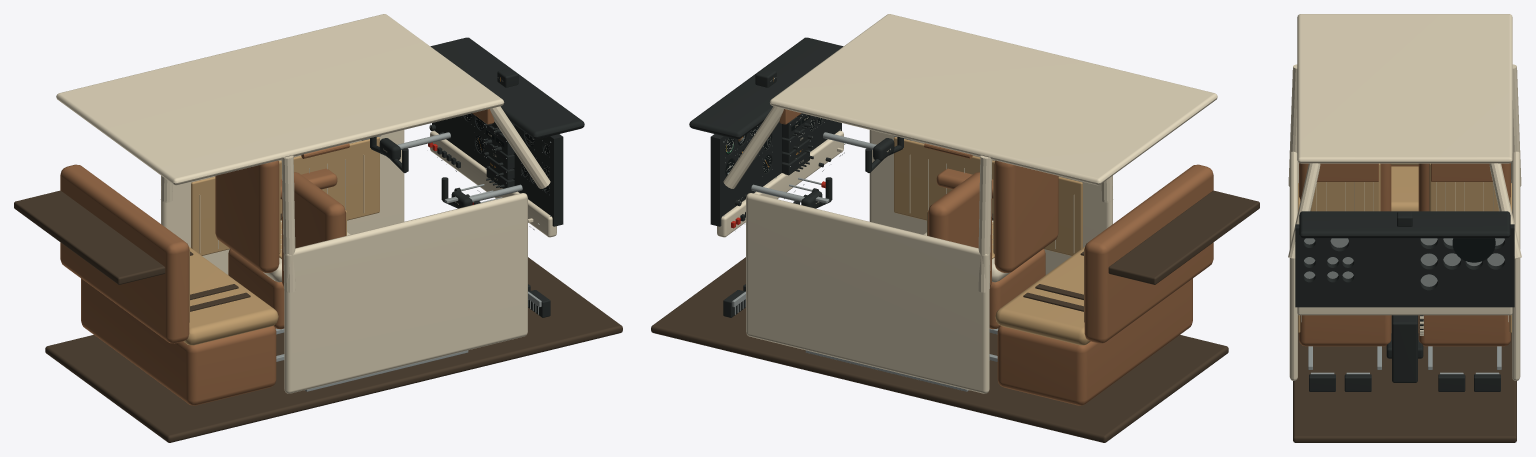
File: c172-interior.glb
3 views of the same model, side by side, from view 1: azimuth 30°, elevation 25°; view 2: azimuth 150°, elevation 25°; view 3: azimuth 270°, elevation 25° (orthographic). The views are drawn at different scales.
Parts seen in each view (by area): view 1: C172_Interior_static, C172_Headliner, C172_Door_R, C172_Rear_bench_base, C172_Door_L, C172_Seat_base_L, C172_Yoke_L_roll; view 2: C172_Interior_static, C172_Headliner, C172_Door_L, C172_Rear_bench_base, C172_Door_R, C172_Seat_base_R, C172_Yoke_R_roll; view 3: C172_Interior_static, C172_Headliner, C172_Seat_base_R, C172_Seat_base_L, C172_Door_L, C172_Door_R, C172_Sunvisor_L, C172_Sunvisor_R, C172_Pedal_L_R, C172_Pedal_R_L, C172_Pedal_L_L, C172_Pedal_R_R (+1 smaller).
Part boxes in pixels (bbox=[...]): C172_Interior_static: bbox=[14, 37, 622, 442]; C172_Headliner: bbox=[56, 14, 504, 185]; C172_Door_R: bbox=[284, 193, 527, 393]; C172_Rear_bench_base: bbox=[81, 278, 276, 405]; C172_Door_L: bbox=[161, 130, 404, 274]; C172_Seat_base_L: bbox=[228, 249, 284, 329]; C172_Yoke_L_roll: bbox=[370, 136, 408, 172]; C172_Interior_static: bbox=[651, 37, 1259, 442]; C172_Headliner: bbox=[769, 14, 1217, 185]; C172_Door_L: bbox=[746, 193, 989, 393]; C172_Rear_bench_base: bbox=[997, 278, 1192, 405]; C172_Door_R: bbox=[869, 130, 1112, 274]; C172_Seat_base_R: bbox=[989, 249, 1045, 329]; C172_Yoke_R_roll: bbox=[865, 136, 903, 172]; C172_Interior_static: bbox=[1288, 64, 1521, 442]; C172_Headliner: bbox=[1297, 14, 1512, 163]; C172_Seat_base_R: bbox=[1299, 315, 1391, 346]; C172_Seat_base_L: bbox=[1418, 315, 1510, 346]; C172_Door_L: bbox=[1512, 151, 1520, 380]; C172_Door_R: bbox=[1289, 151, 1297, 380]; C172_Sunvisor_L: bbox=[1431, 163, 1492, 181]; C172_Sunvisor_R: bbox=[1317, 163, 1378, 181]; C172_Pedal_L_R: bbox=[1438, 374, 1465, 391]; C172_Pedal_R_L: bbox=[1344, 374, 1371, 391]; C172_Pedal_L_L: bbox=[1474, 374, 1500, 391]; C172_Pedal_R_R: bbox=[1309, 374, 1335, 391].
Size of the model in its own units: 2.4 by 1.2 by 1.09.
